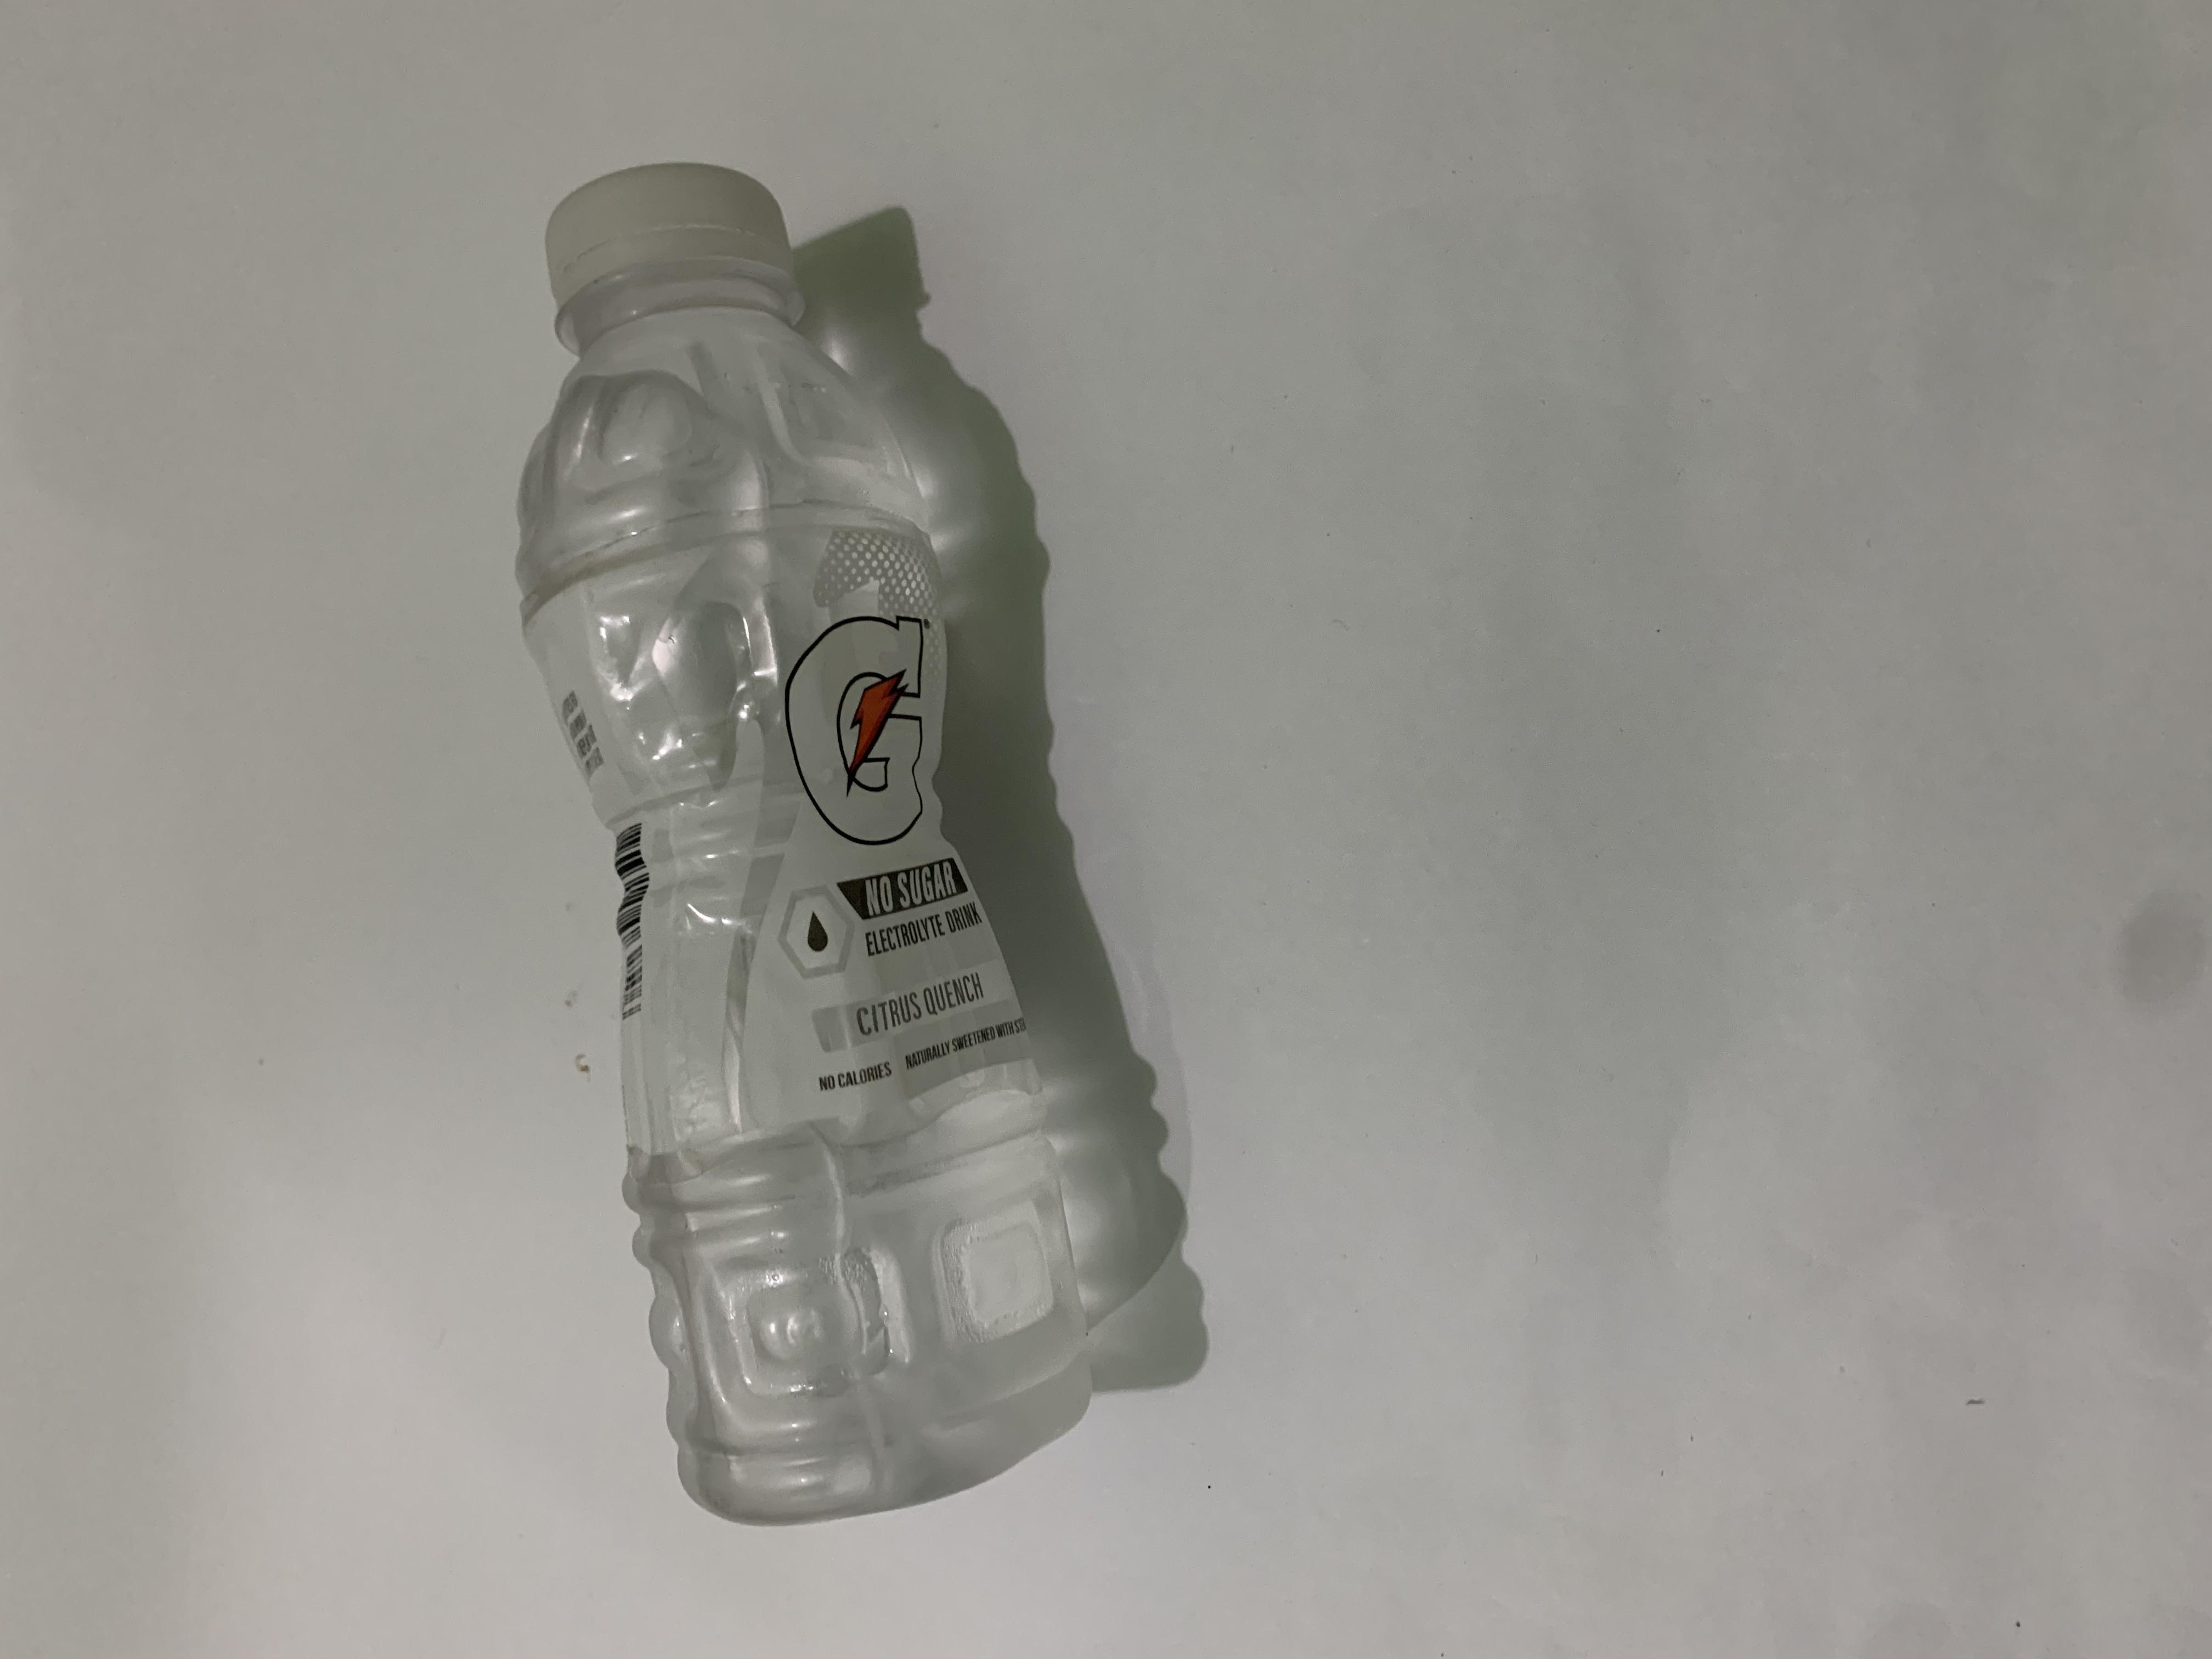bottle: (169, 378, 2012, 828)
